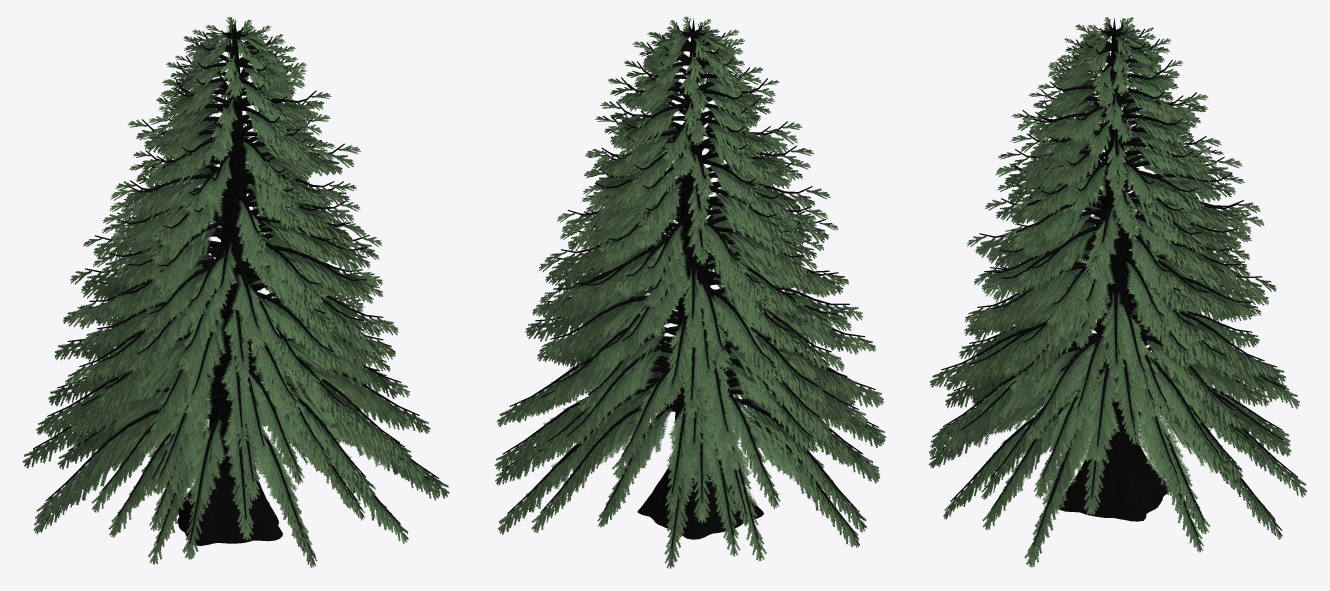
Rendered from pine_giant_03.glb.
The picture shows the model from 3 angles, left to right: view 1: azimuth 30°, elevation 25°; view 2: azimuth 150°, elevation 25°; view 3: azimuth 270°, elevation 25°; orthographic projection. The views are drawn at different scales.
Parts seen in each view (by area): view 1: pine_giant_03; view 2: pine_giant_03; view 3: pine_giant_03.
Boxes of the visible parts, box(x1,y1,x2,y2) form: pine_giant_03: box(22, 17, 449, 567); pine_giant_03: box(495, 16, 886, 568); pine_giant_03: box(929, 17, 1307, 567).
Size of the model in its own units: 15.84 by 20.4 by 15.07.
Materials: 2 (2 with a texture image).
